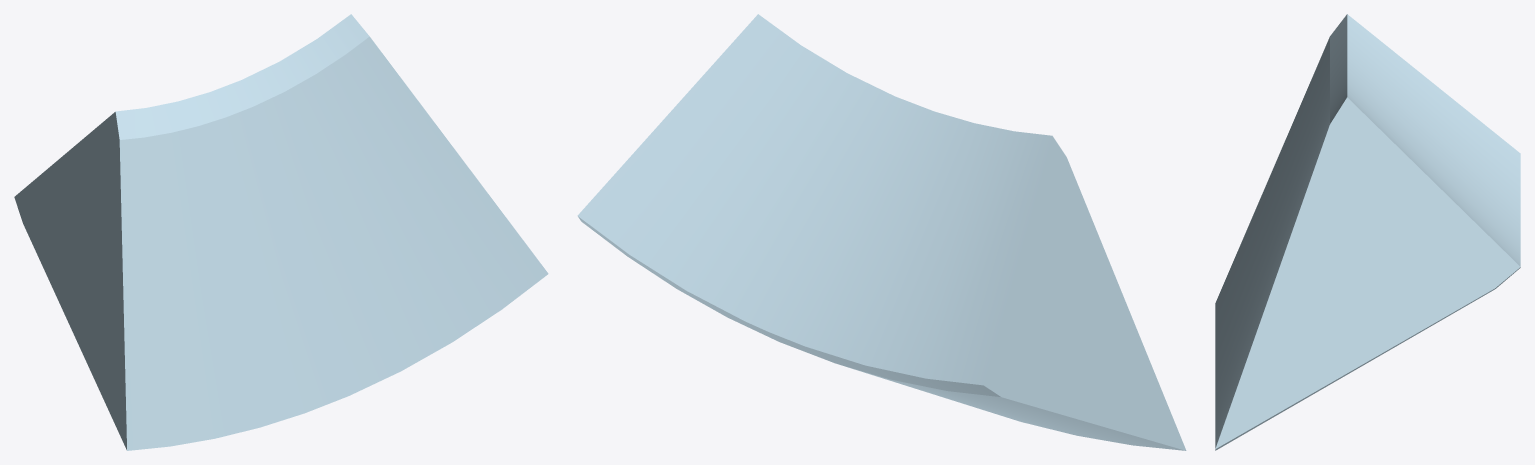
File: Sub_5_Cell_2_1.gltf
The picture shows the model from 3 angles, left to right: view 1: azimuth 30°, elevation 25°; view 2: azimuth 150°, elevation 25°; view 3: azimuth 270°, elevation 25°; orthographic projection. The views are drawn at different scales.
Parts seen in each view (by area): view 1: Sub_5_Cell_2_1; view 2: Sub_5_Cell_2_1; view 3: Sub_5_Cell_2_1.
Part boxes in pixels (x1,y1,x2,y2): Sub_5_Cell_2_1: [14, 14, 548, 450]; Sub_5_Cell_2_1: [577, 14, 1186, 450]; Sub_5_Cell_2_1: [1215, 14, 1520, 450].
Bounding box in the file's own units: 0.0863 × 0.0652 × 0.0488.
